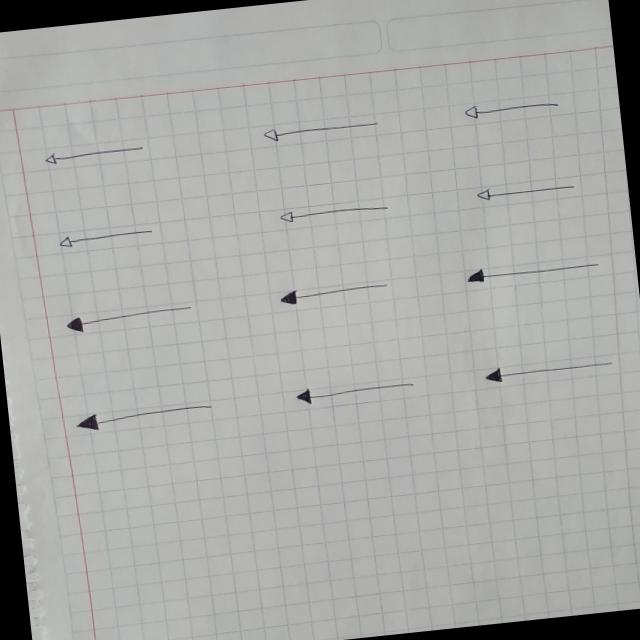arrow_line_left: (460, 251, 602, 287), (72, 397, 216, 432), (482, 352, 614, 387), (58, 299, 193, 333), (259, 113, 380, 146), (292, 376, 416, 408), (272, 276, 390, 307), (278, 196, 391, 228), (460, 94, 561, 124), (40, 140, 145, 167), (472, 176, 576, 203), (55, 224, 155, 251)
